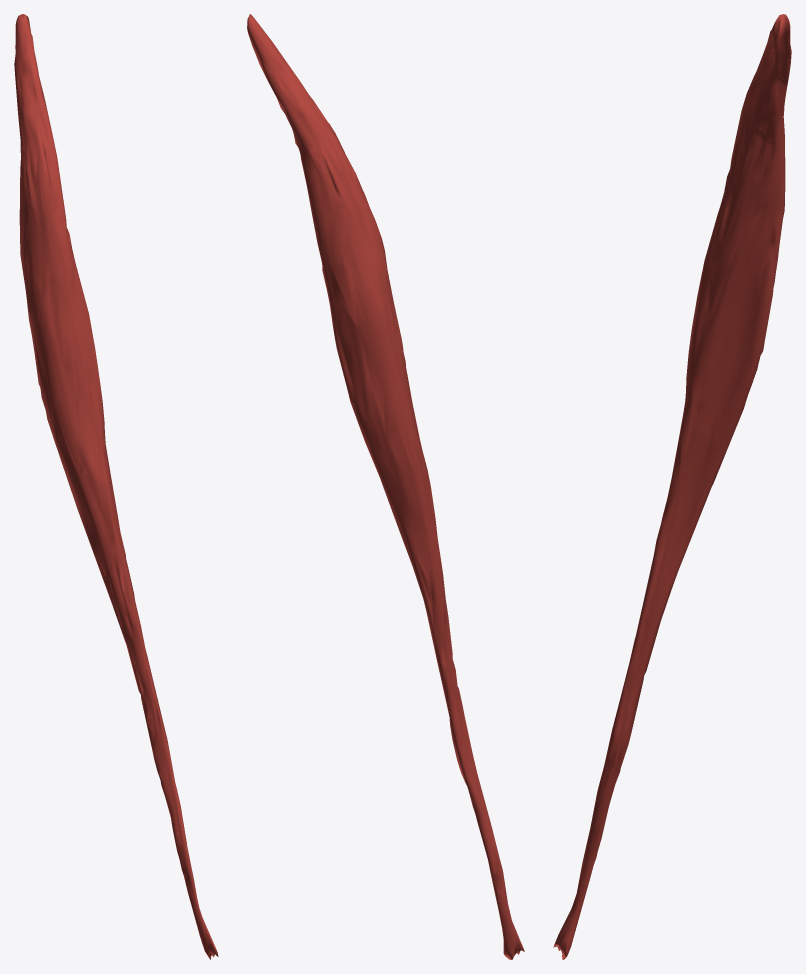
Rendered from musculos-extensor-carpi-radialis-longus-r.glb.
3 views of the same model, side by side, from view 1: azimuth 90°, elevation 25°; view 2: azimuth 150°, elevation 25°; view 3: azimuth 270°, elevation 25° (orthographic). The views are drawn at different scales.
Visible parts, largest first — view 1: Extensor carpi radialis longus.r; view 2: Extensor carpi radialis longus.r; view 3: Extensor carpi radialis longus.r.
Boxes of the visible parts, <box> form: Extensor carpi radialis longus.r: <box>14,14,218,959</box>; Extensor carpi radialis longus.r: <box>247,14,524,959</box>; Extensor carpi radialis longus.r: <box>553,14,791,959</box>.
Bounding box in the file's own units: 0.0597 × 0.3331 × 0.0703.
